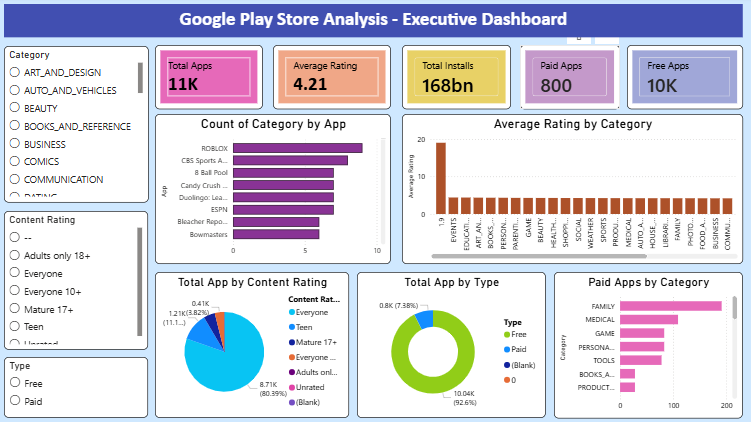

The dashboard page shown, as its layout file describes it:
{"tool":"powerbi","page":{"name":"Executive Overview","canvas":[1280,720],"ordinal":0},"visuals":[{"type":"cardVisual","fields":{"Data":["Google Play Store Analysis.Total Apps"]},"box":[273.8,80.6,181.4,107.5],"z":1000},{"type":"cardVisual","fields":{"Data":["Google Play Store Analysis.Average Rating"]},"box":[472,80.6,198.2,107.5],"z":2000},{"type":"cardVisual","fields":{"Data":["Google Play Store Analysis.Total Installs"]},"box":[688.7,80.6,183.1,107.5],"z":3000},{"type":"cardVisual","fields":{"Data":["Google Play Store Analysis.Paid Apps"]},"box":[886.9,80.6,168,107.5],"z":4000},{"type":"cardVisual","fields":{"Data":["Google Play Store Analysis.Free Apps"]},"box":[1066.7,80.6,194.9,107.5],"z":5000},{"type":"clusteredBarChart","fields":{"Y":["CountNonNull(Google Play Store Analysis.Category)"],"Category":["Google Play Store Analysis.App"]},"box":[273.8,196.5,396.4,252],"z":6000},{"type":"donutChart","fields":{"Category":["Google Play Store Analysis.Type"],"Y":["CountNonNull(Google Play Store Analysis.App)"]},"box":[613.1,461.9,317.5,245.2],"z":7000},{"type":"columnChart","fields":{"Category":["Google Play Store Analysis.Category"],"Y":["Google Play Store Analysis.Average Rating"]},"box":[688.7,196.5,572.8,252],"z":8000},{"type":"pieChart","fields":{"Category":["Google Play Store Analysis.Content Rating"],"Y":["CountNonNull(Google Play Store Analysis.App)"]},"box":[273.8,461.9,325.9,245.2],"z":9000},{"type":"barChart","fields":{"Category":["Google Play Store Analysis.Category"],"Y":["Google Play Store Analysis.Paid Apps"]},"box":[944.8,461.5,316.6,245.9],"z":10000},{"type":"listSlicer","fields":{"Values":["Google Play Store Analysis.Category"]},"box":[20.2,82.5,242.5,262.7],"z":11000},{"type":"listSlicer","fields":{"Values":["Google Play Store Analysis.Content Rating"]},"box":[20.2,359.5,241.9,233.5],"z":12000},{"type":"listSlicer","fields":{"Values":["Google Play Store Analysis.Type"]},"box":[20.2,604.7,241.9,102.5],"z":13000},{"type":"textbox","box":[20.2,11.8,1241.3,55.6],"z":14000}]}

Visuals, with their boxes in screenshot pixels (x1, y1, x2, y2), scaled from the page's 1280x720 canvas onto the 751x422 screenshot:
cardVisual - Google Play Store Analysis.Total Apps: 161,47,267,110
cardVisual - Google Play Store Analysis.Average Rating: 277,47,393,110
cardVisual - Google Play Store Analysis.Total Installs: 404,47,512,110
cardVisual - Google Play Store Analysis.Paid Apps: 520,47,619,110
cardVisual - Google Play Store Analysis.Free Apps: 626,47,740,110
clusteredBarChart - CountNonNull(Google Play Store Analysis.Category) x Google Play Store Analysis.App: 161,115,393,263
donutChart - Google Play Store Analysis.Type x CountNonNull(Google Play Store Analysis.App): 360,271,546,414
columnChart - Google Play Store Analysis.Category x Google Play Store Analysis.Average Rating: 404,115,740,263
pieChart - Google Play Store Analysis.Content Rating x CountNonNull(Google Play Store Analysis.App): 161,271,352,414
barChart - Google Play Store Analysis.Category x Google Play Store Analysis.Paid Apps: 554,270,740,415
listSlicer - Google Play Store Analysis.Category: 12,48,154,202
listSlicer - Google Play Store Analysis.Content Rating: 12,211,154,348
listSlicer - Google Play Store Analysis.Type: 12,354,154,414
textbox: 12,7,740,40
